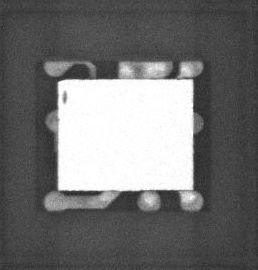DIE_INK: (58, 94, 65, 110)
